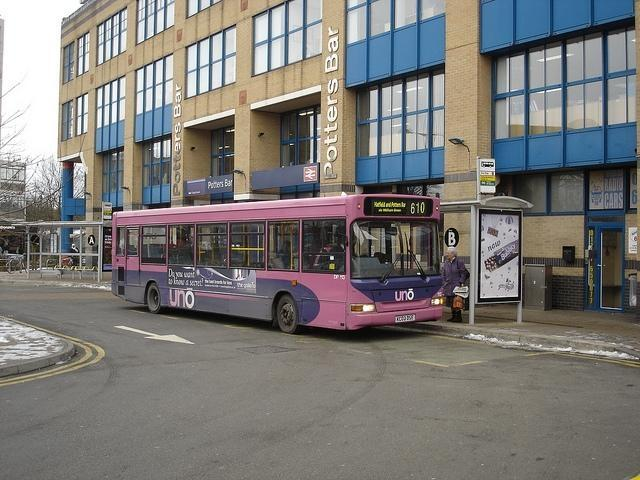bicycle: (5, 258, 25, 274)
bus: (109, 196, 443, 332)
